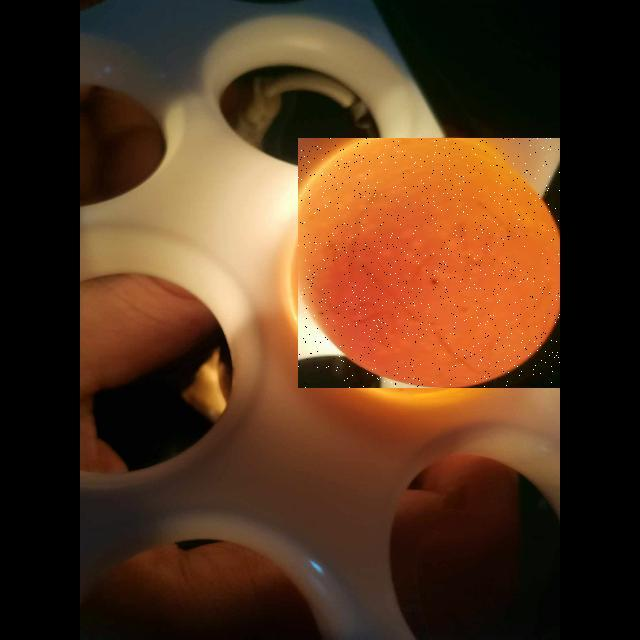Infertile: (298, 138, 560, 388)
